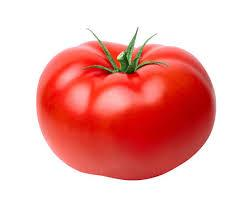non-mango: (35, 26, 216, 180)
